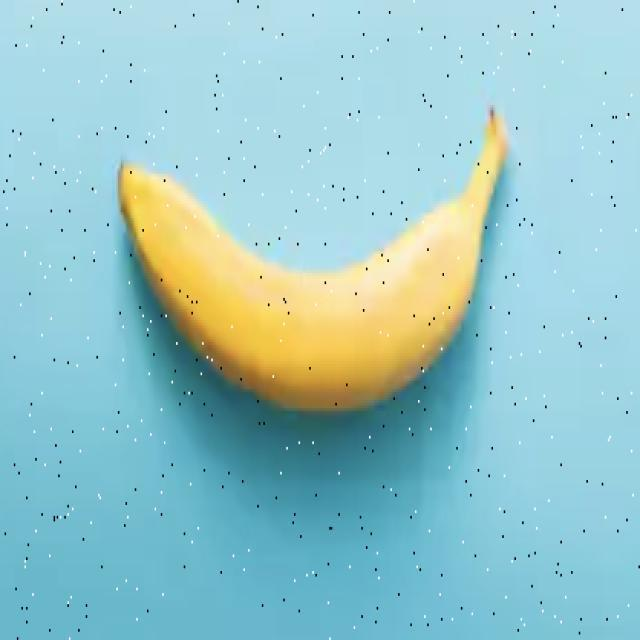Banana: (117, 105, 508, 412)
